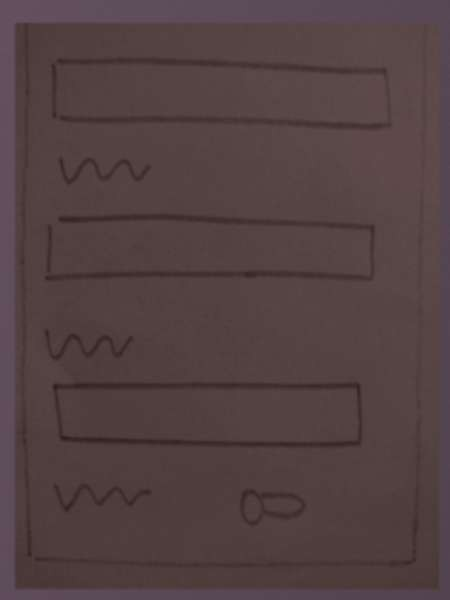switch: (234, 478, 311, 530)
text: (50, 475, 154, 517), (38, 323, 142, 362), (49, 150, 153, 188)
text_input: (46, 52, 396, 140), (36, 205, 386, 293), (49, 371, 368, 450)
